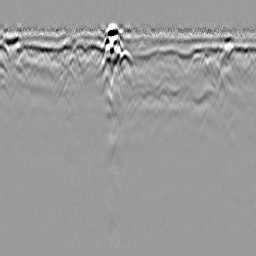cavity: (112, 51, 139, 86)
